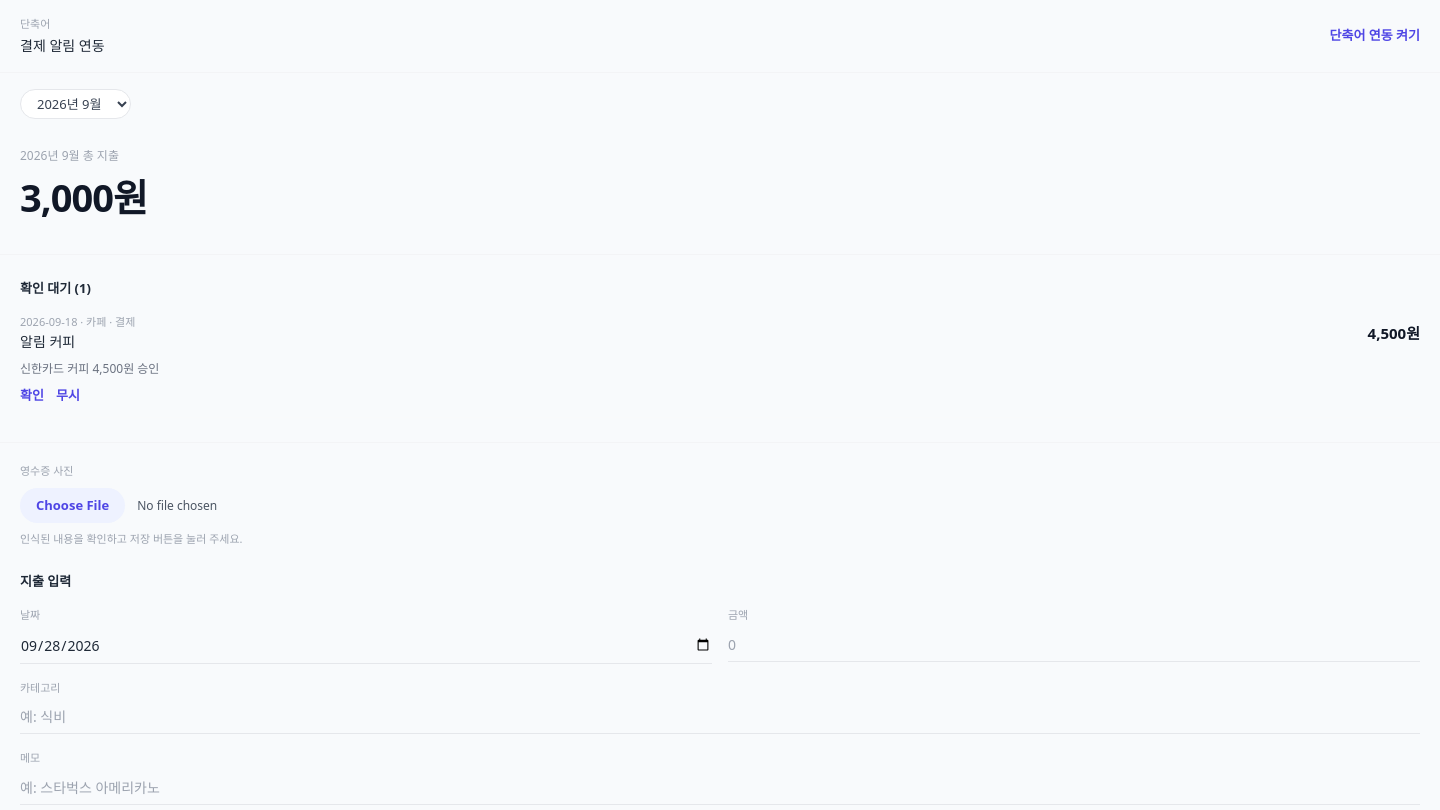
Test: 대시보드 확인 대기 › 편집 중 대기 확인을 시작하면 수정 대신 대기 확인으로 저장합니다
Click the button "확인" at (32, 395), box x1=20 y1=386 x2=44 y2=405
(page scrolled)
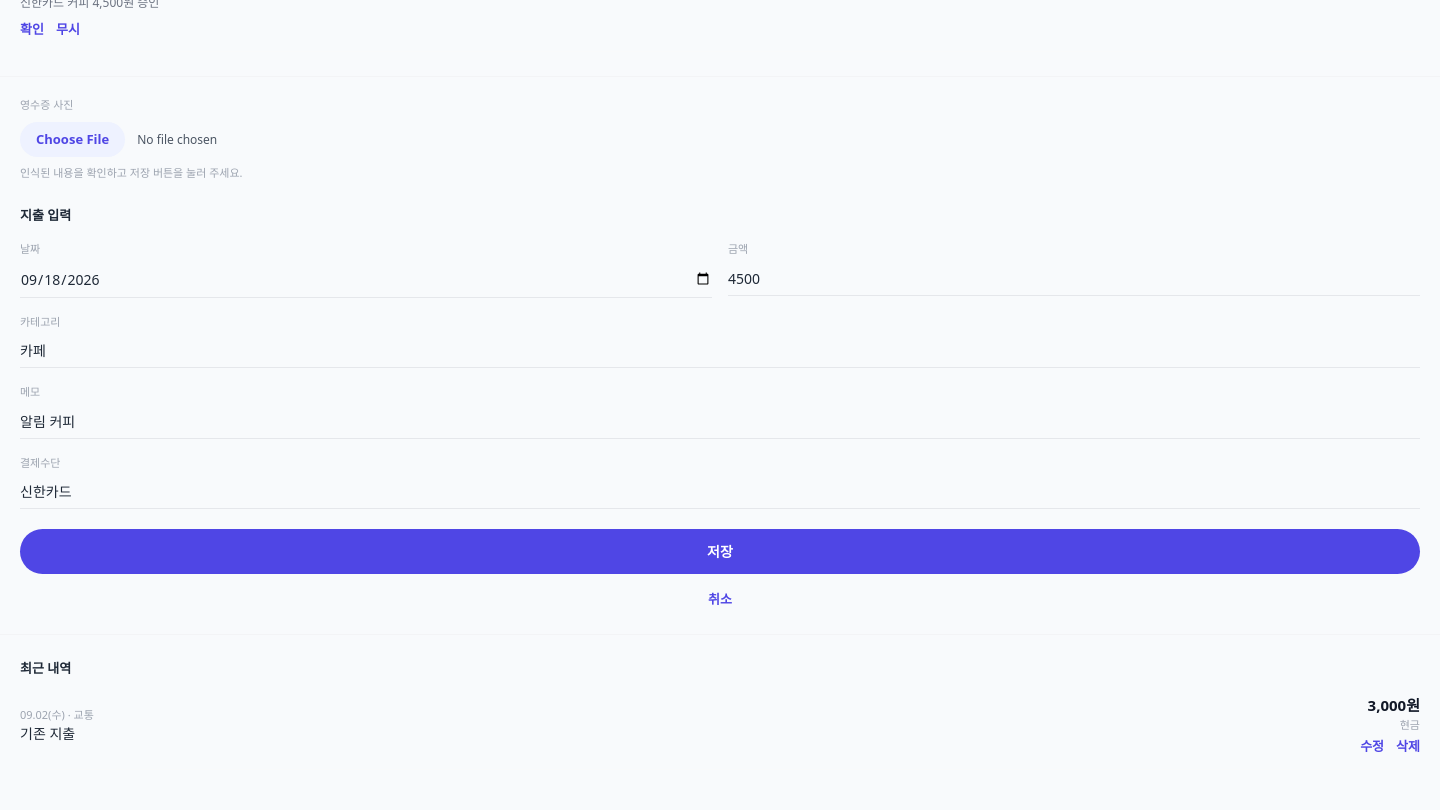
Click the button "수정" at (1372, 747), box x1=1360 y1=737 x2=1384 y2=756
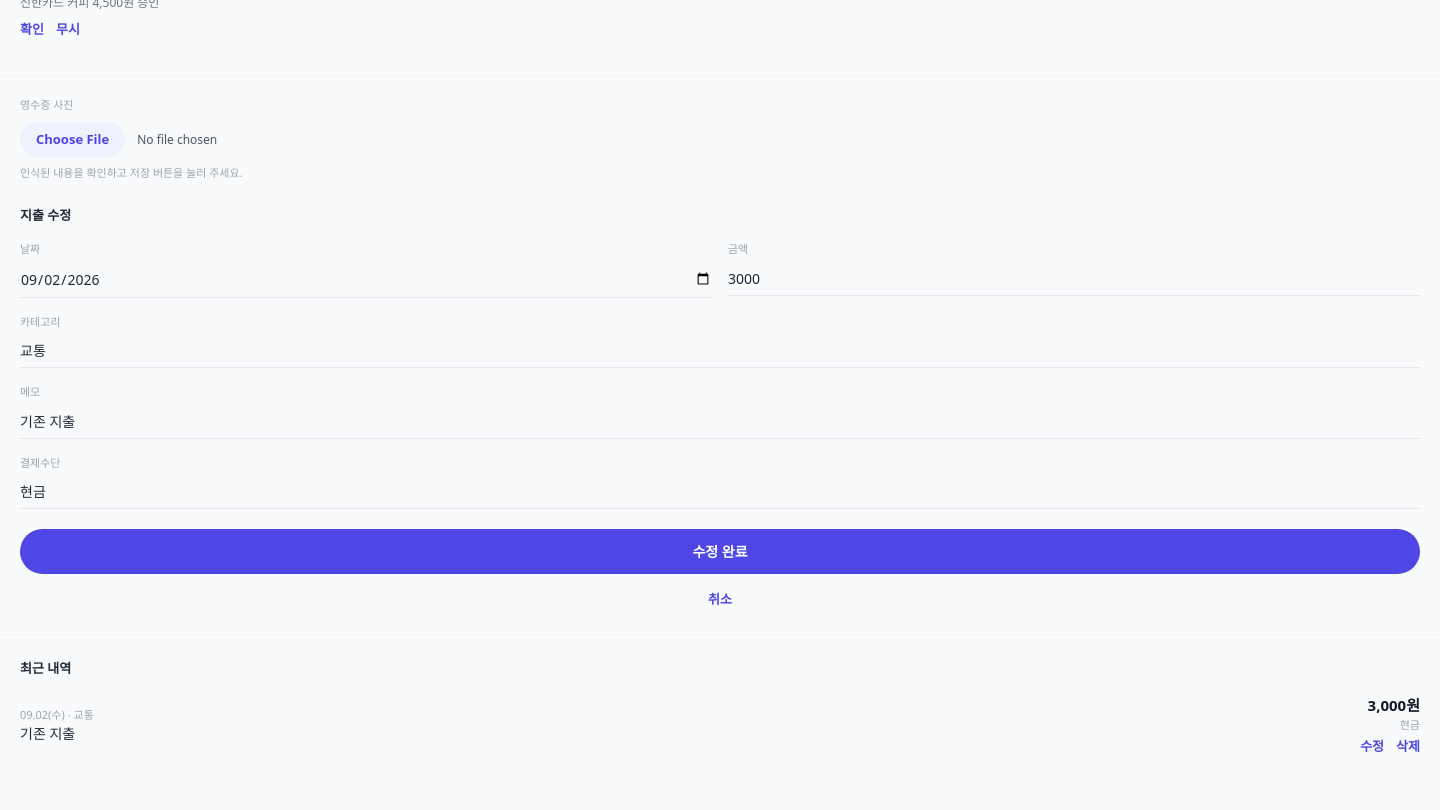
Click the button "확인" at (32, 29), box x1=20 y1=20 x2=44 y2=39
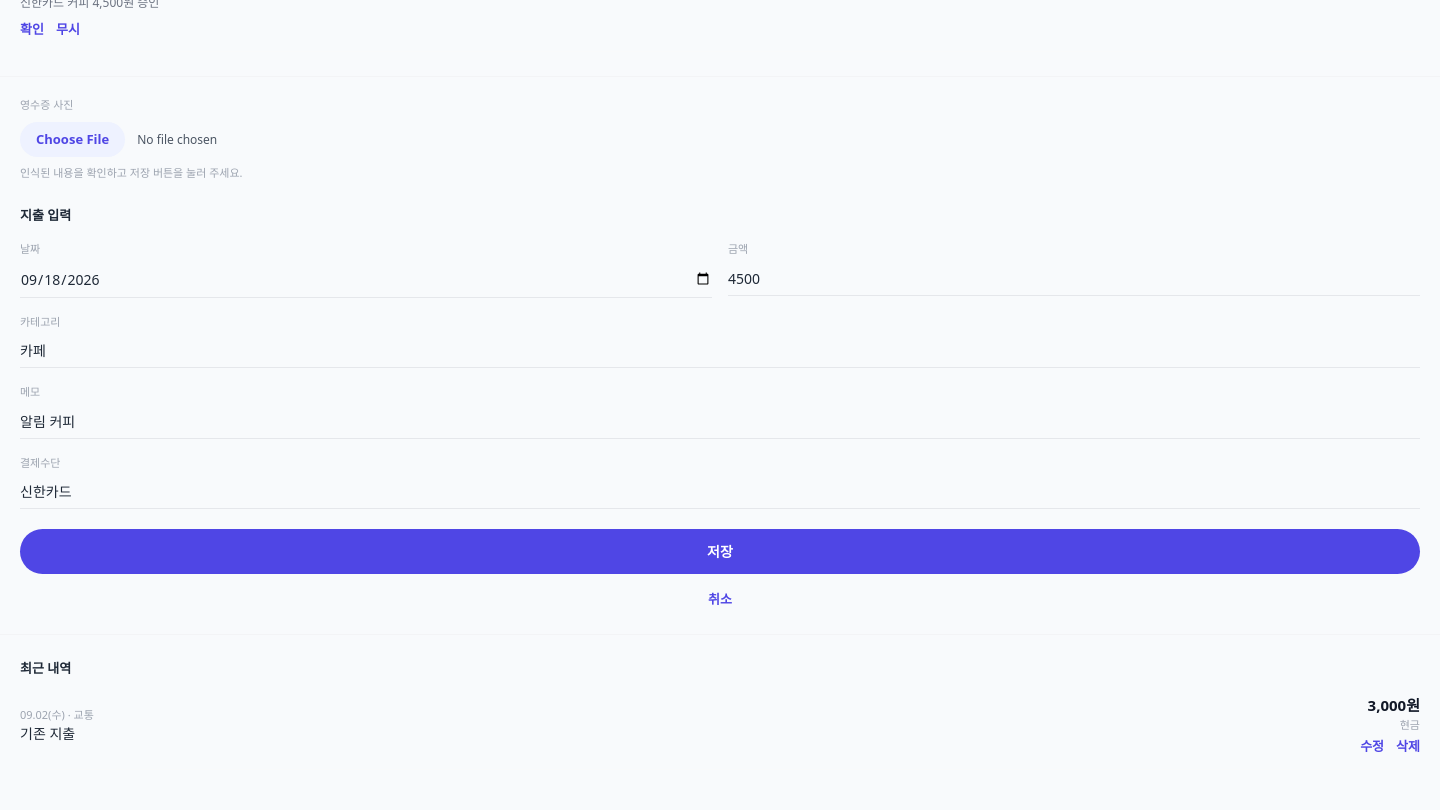
Result: the button "수정 완료" is gone
Result: the field labelled "메모" holds "알림 커피" at x1=20 y1=404 x2=1420 y2=438
Click the button "저장" at (720, 552), box x1=20 y1=529 x2=1420 y2=574
(page scrolled)
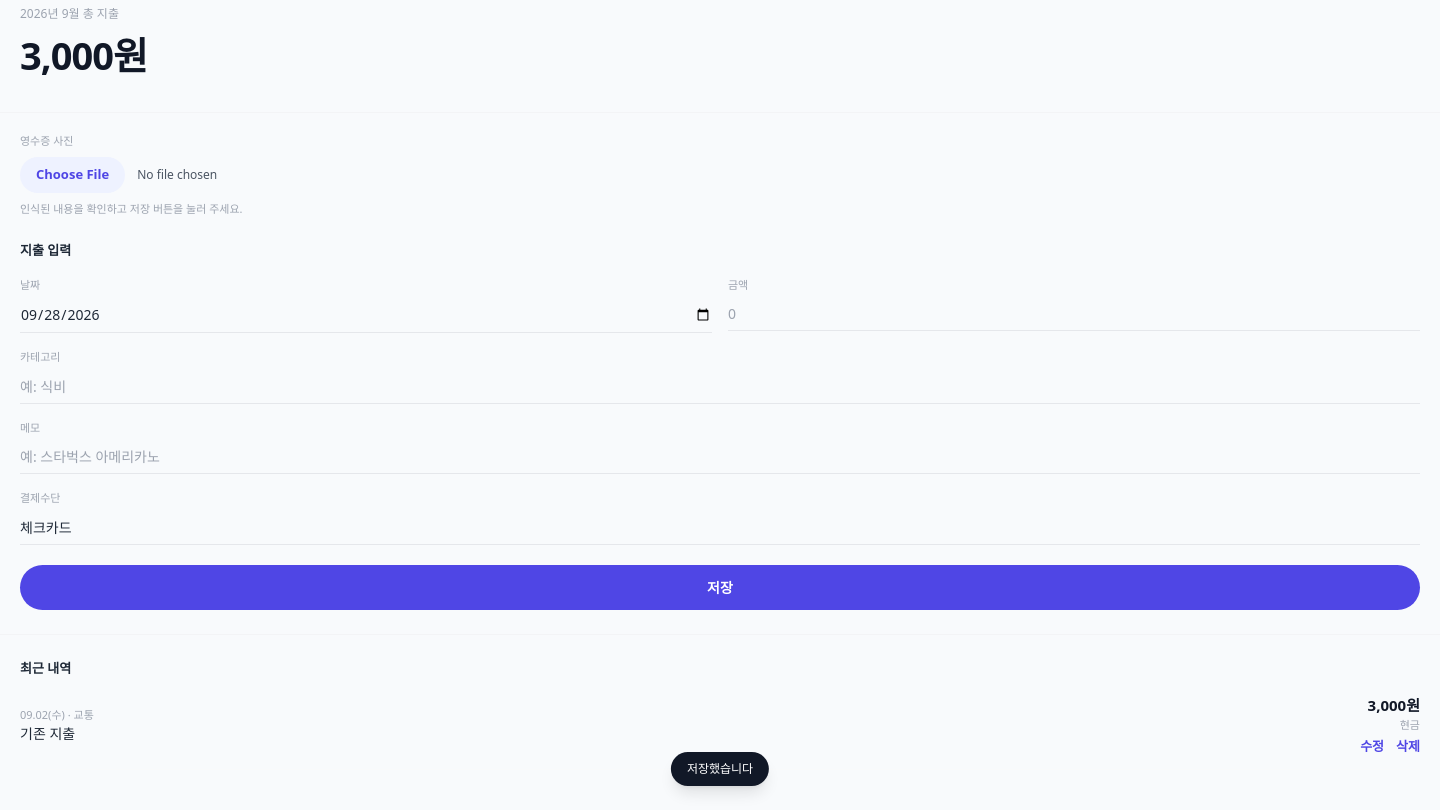
Result: the text "저장했습니다" is shown at x1=671 y1=752 x2=769 y2=786
